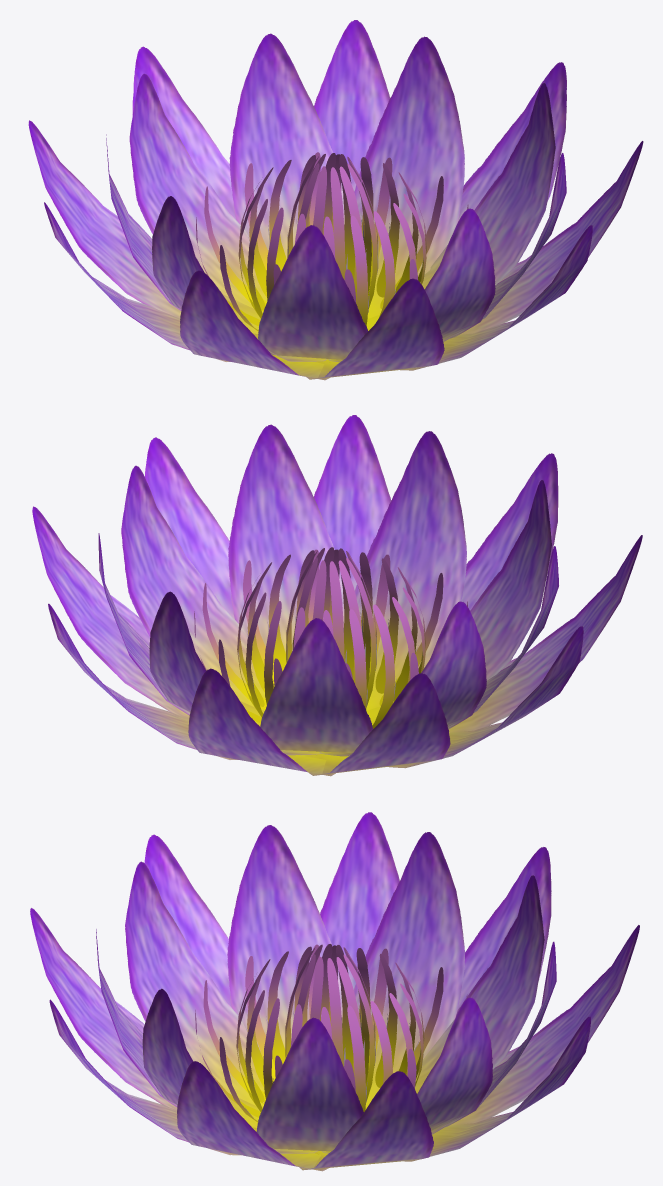
The model's file is lilyflower_1mesh1texture.FBX.
The picture shows the model from 3 angles, top to bottom: view 1: azimuth 30°, elevation 25°; view 2: azimuth 150°, elevation 25°; view 3: azimuth 270°, elevation 25°; orthographic projection.
Parts seen in each view (by area): view 1: petalStamens_singleMesh; view 2: petalStamens_singleMesh; view 3: petalStamens_singleMesh.
Boxes of the visible parts, box(x1,y1,x2,y2) form: petalStamens_singleMesh: box(28, 20, 643, 380); petalStamens_singleMesh: box(32, 415, 642, 776); petalStamens_singleMesh: box(30, 812, 639, 1171).
Size of the model in its own units: 0.6425 by 0.2309 by 0.6414.
Materials: 1 (1 with a texture image).
